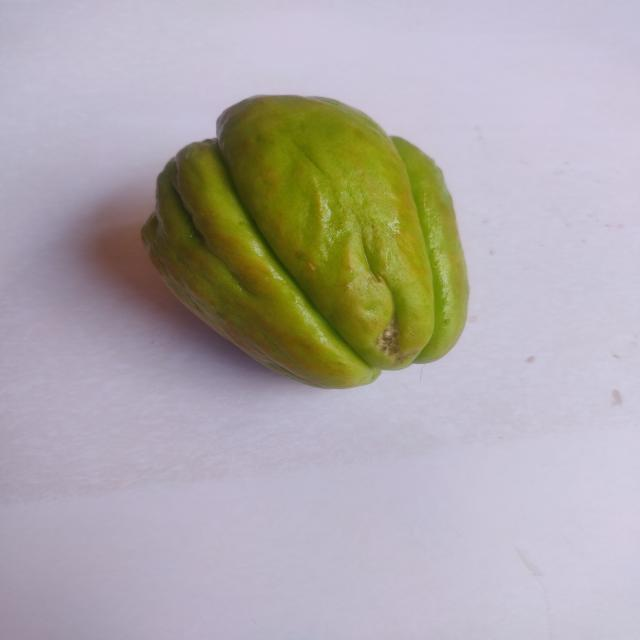Chayote: (126, 78, 495, 402)
